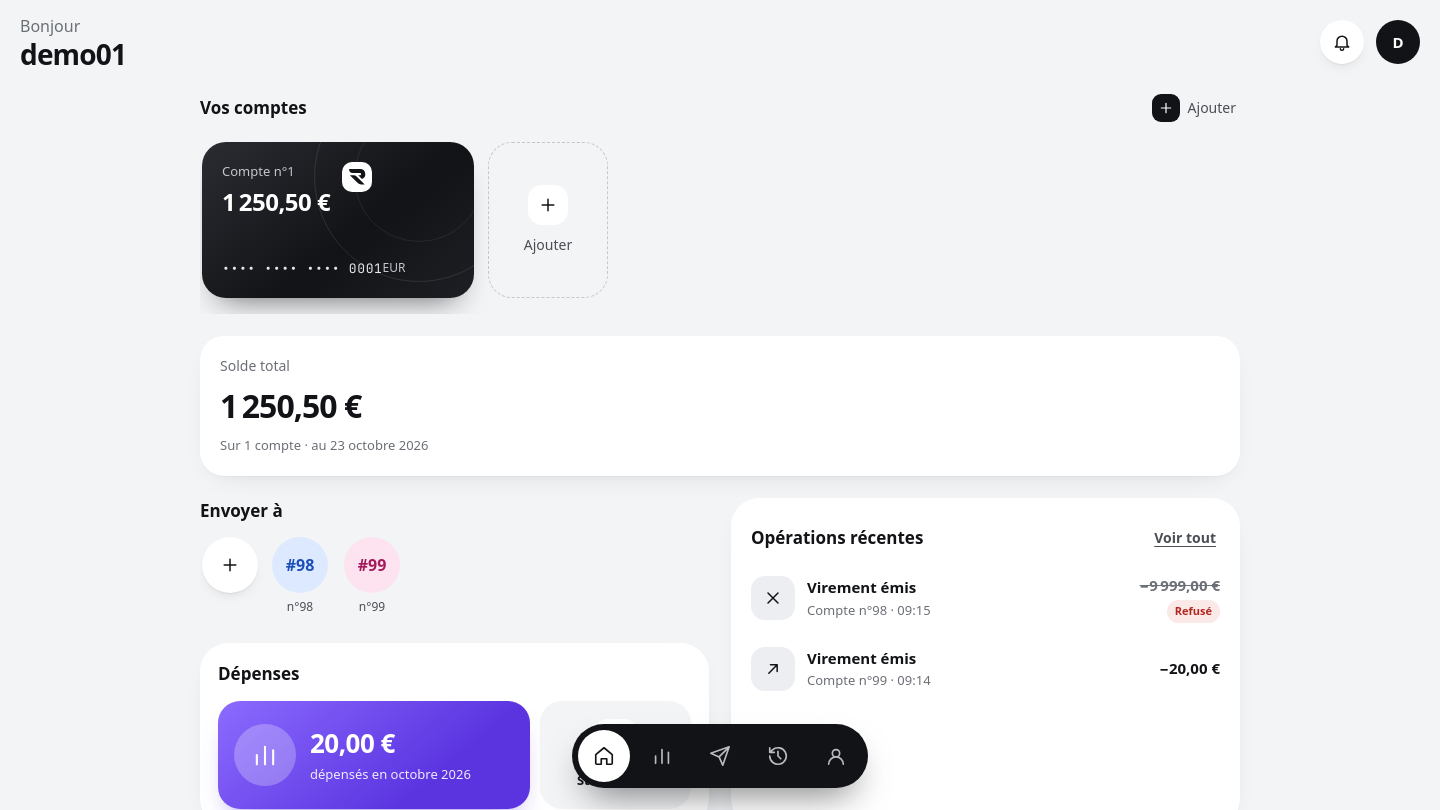
Test: Front - shell responsive › mobile : barre d’onglets, navigation vers Historique
The width and height of the screenshot is (1440, 810).
Click the button named "Historique" at point(778, 756), box [752, 730, 804, 782]
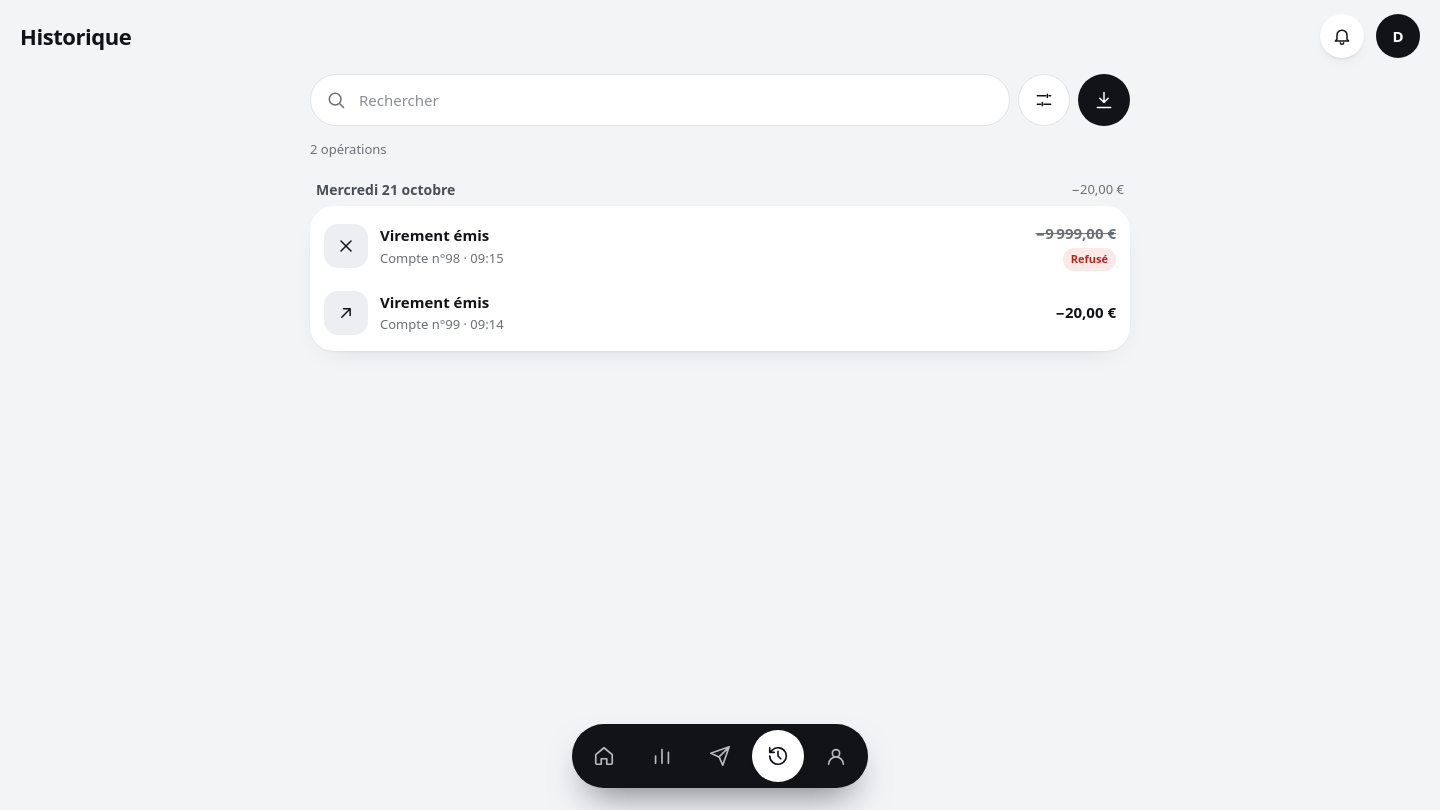
Check: the heading "Historique" is shown, box [20, 20, 131, 50]
